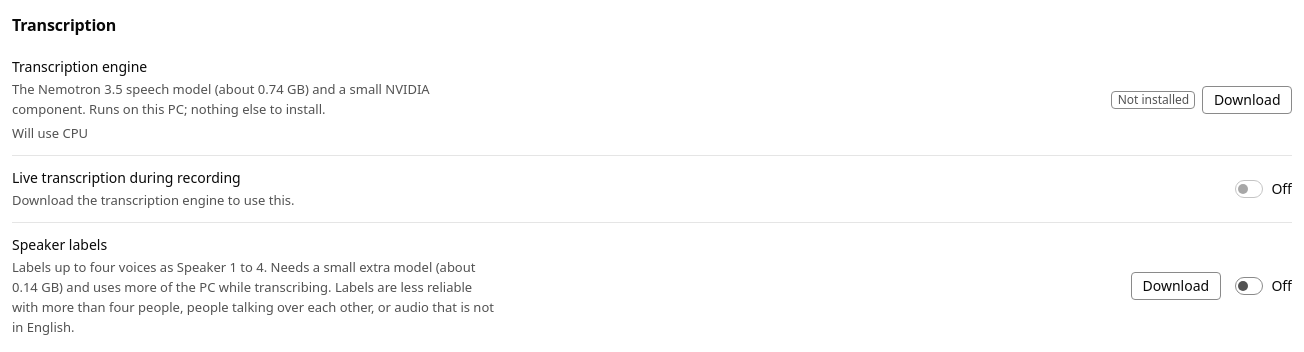
Test: TranscriptionSection engine › puts the raw failure where the acceleration caption was
Click the button "Download" next to "Not installed". click: x=1247, y=100
box: [1202,86,1292,114]
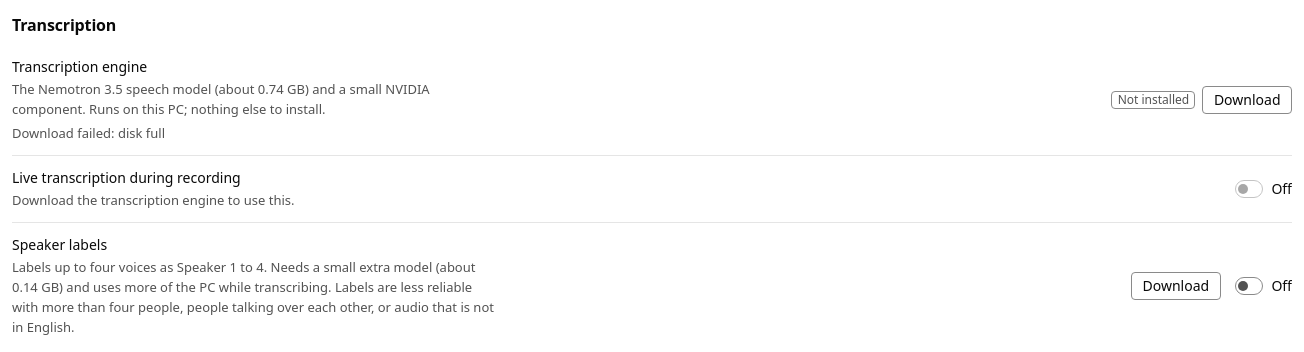
Expected: the text with test id "acceleration-caption" reads "Download failed: disk full", [12,124,165,142]
